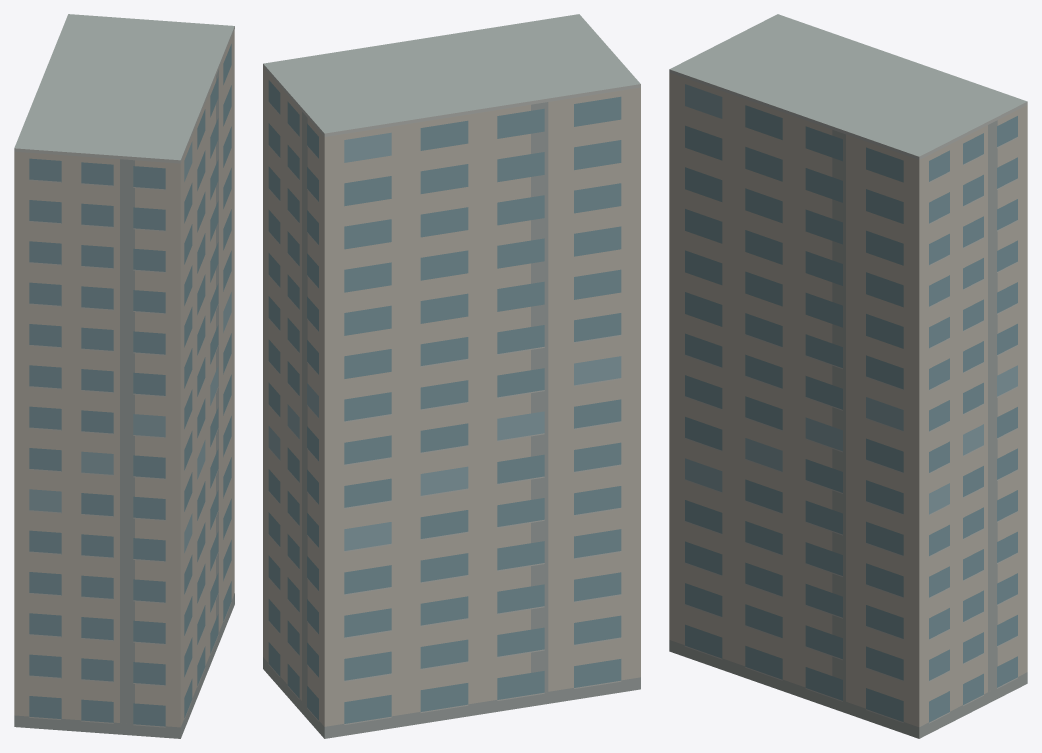
The model's file is residential-14fbd149-0471-4a3b-bfb9-65fe78e417e5.glb.
3 views of the same model, side by side, from view 1: azimuth 30°, elevation 25°; view 2: azimuth 150°, elevation 25°; view 3: azimuth 270°, elevation 25° (orthographic). The views are drawn at different scales.
Visible parts, largest first — view 1: residential-14fbd149-0471-4a3b-bfb9-65fe78e417e5.tmp; view 2: residential-14fbd149-0471-4a3b-bfb9-65fe78e417e5.tmp; view 3: residential-14fbd149-0471-4a3b-bfb9-65fe78e417e5.tmp.
Boxes of the visible parts, left/top/right/bottom form: residential-14fbd149-0471-4a3b-bfb9-65fe78e417e5.tmp: left=14, top=14, right=234, bottom=738; residential-14fbd149-0471-4a3b-bfb9-65fe78e417e5.tmp: left=263, top=14, right=640, bottom=738; residential-14fbd149-0471-4a3b-bfb9-65fe78e417e5.tmp: left=669, top=14, right=1027, bottom=738.
Bounding box in the file's own units: 22.63 × 43 × 23.99.
